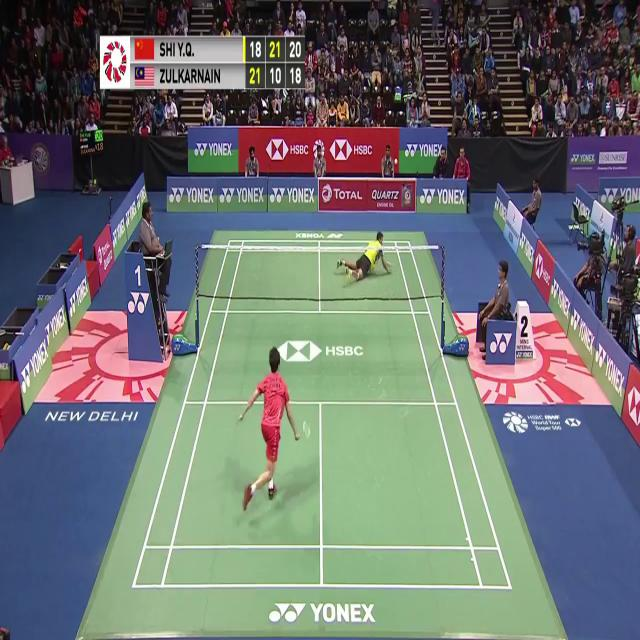Shuttlecock: (393, 156, 400, 168)
